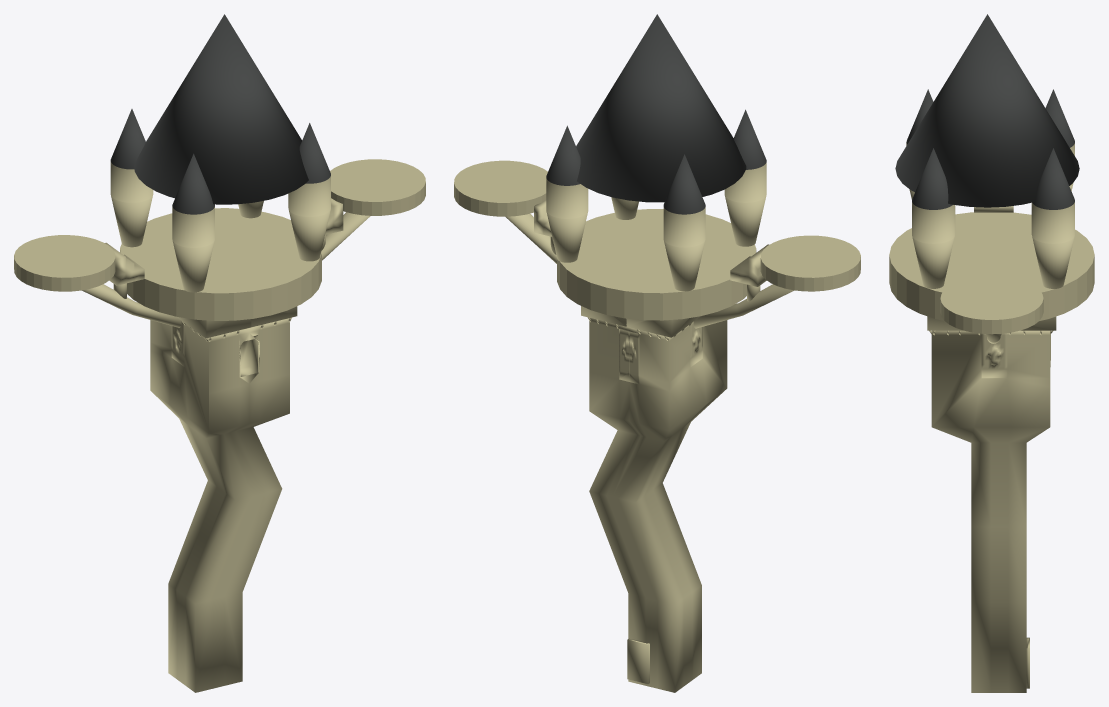
File: Torres 3.1.fbx
3 renders of one model, left to right at view 1: azimuth 30°, elevation 25°; view 2: azimuth 150°, elevation 25°; view 3: azimuth 270°, elevation 25°, orthographic. The views are drawn at different scales.
Visible parts, largest first — view 1: Torre 1, Cone.001, Cylinder.004, Cone.002, Cylinder.002, Cylinder.001, Cylinder, Cube.002; view 2: Torre 1, Cone.001, Cylinder.004, Cone.002, Cylinder.002, Cylinder.001, Cube.001, Cylinder, Cube.002; view 3: Torre 1, Cone.001, Cylinder.004, Cone.002, Cylinder.002.
Boxes of the visible parts, box(x1,y1,x2,y2) form: Torre 1: box(150, 306, 297, 692); Cone.001: box(134, 14, 308, 204); Cylinder.004: box(120, 208, 321, 320); Cone.002: box(110, 109, 330, 292); Cylinder.002: box(14, 159, 425, 291); Cylinder.001: box(82, 283, 181, 327); Cylinder: box(321, 212, 370, 260); Cube.002: box(104, 242, 144, 285); Torre 1: box(581, 306, 727, 692); Cone.001: box(576, 14, 746, 202); Cylinder.004: box(557, 209, 756, 320); Cone.002: box(546, 109, 766, 291); Cylinder.002: box(454, 160, 860, 291); Cylinder.001: box(693, 284, 794, 328); Cube.001: box(627, 638, 649, 683); Cylinder: box(505, 213, 556, 263); Cube.002: box(730, 244, 769, 286); Torre 1: box(927, 316, 1056, 692); Cone.001: box(895, 14, 1079, 207); Cylinder.004: box(889, 212, 1094, 320); Cone.002: box(906, 89, 1074, 288); Cylinder.002: box(940, 276, 1043, 334).
Bounding box in the file's own units: 1444 × 2300 × 635.
